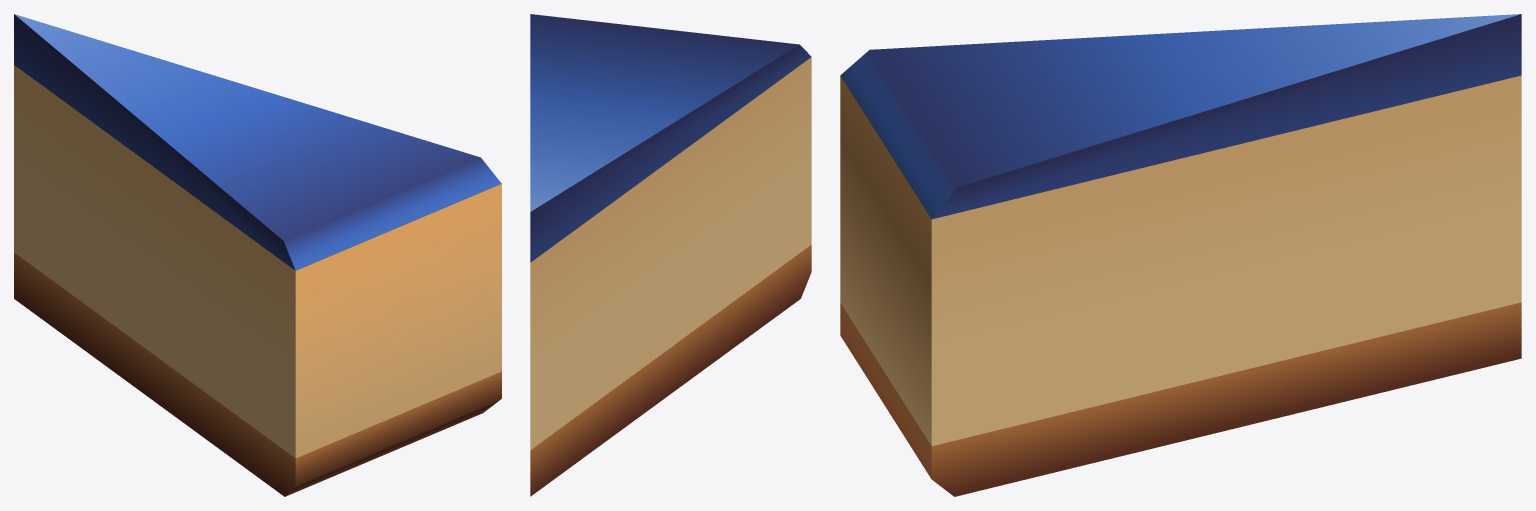
The model's file is m_CheeseCake04_Slice.fbx.
The picture shows the model from 3 angles, left to right: view 1: azimuth 30°, elevation 25°; view 2: azimuth 150°, elevation 25°; view 3: azimuth 270°, elevation 25°; orthographic projection. The views are drawn at different scales.
Visible parts, largest first — view 1: m_CheeseCake04_Slice; view 2: m_CheeseCake04_Slice; view 3: m_CheeseCake04_Slice.
Part boxes in pixels (x1,y1,x2,y2): m_CheeseCake04_Slice: (14, 14, 501, 496); m_CheeseCake04_Slice: (530, 14, 811, 496); m_CheeseCake04_Slice: (840, 14, 1521, 496).
Size of the model in its own units: 7 by 7.81 by 14.
